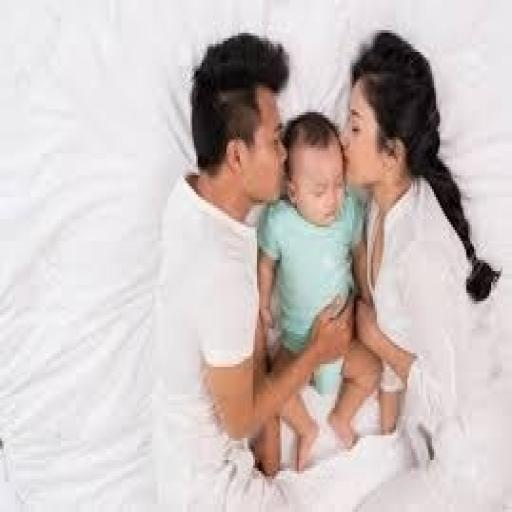sleeping: (154, 25, 501, 487)
